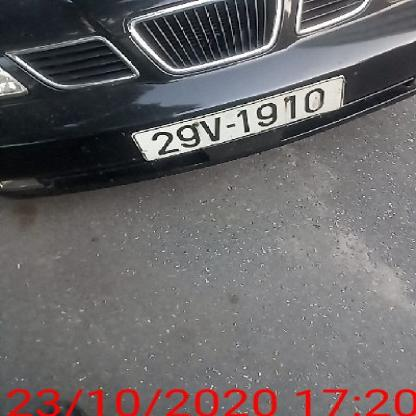biensoxe: (128, 74, 346, 162)
